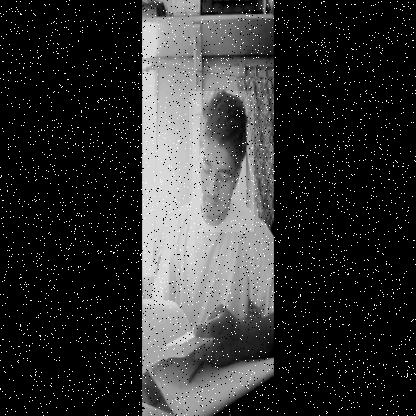Normal: (189, 91, 254, 232)
